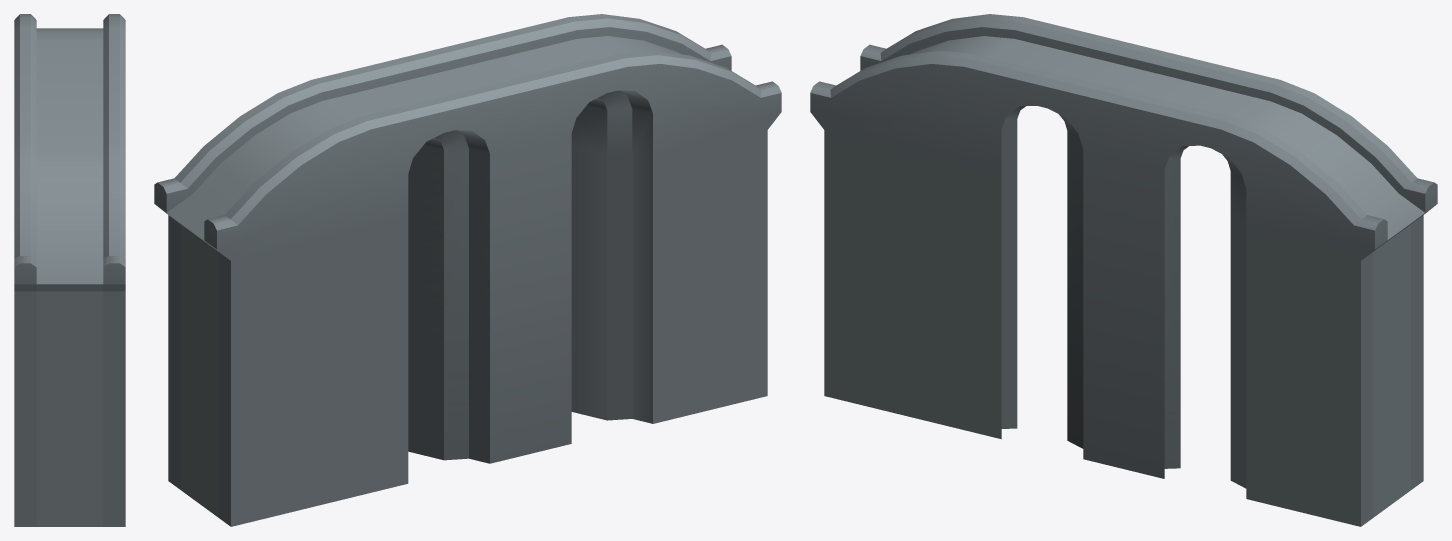
Rendered from building_bridge_b.glb.
3 renders of one model, left to right at view 1: azimuth 30°, elevation 25°; view 2: azimuth 150°, elevation 25°; view 3: azimuth 270°, elevation 25°, orthographic. The views are drawn at different scales.
Visible parts, largest first — view 1: building_bridge_B; view 2: building_bridge_B; view 3: building_bridge_B.
Boxes of the visible parts, x1,y1,x2,y2 form: building_bridge_B: (14,14,125,526); building_bridge_B: (154,14,781,526); building_bridge_B: (810,14,1437,526).
Bounding box in the file's own units: 1.33 × 1.25 × 1.92.
Materials: 1 (1 with a texture image).
